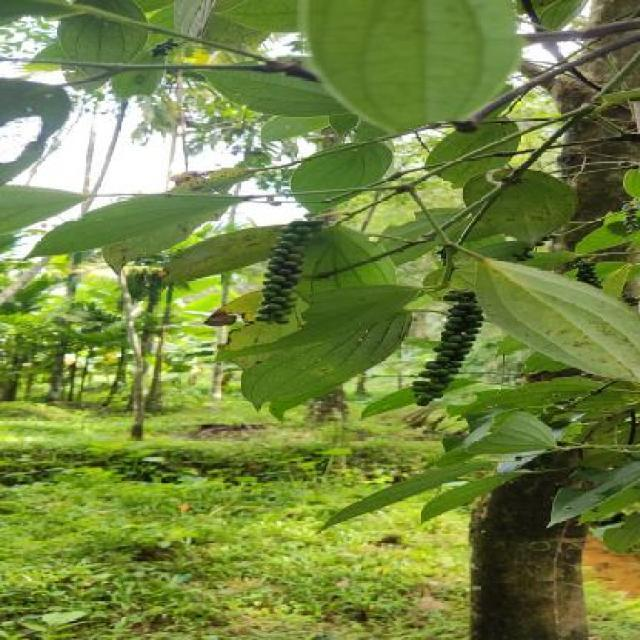UNRIPE: (410, 289, 481, 406), (256, 219, 322, 324), (566, 261, 599, 287), (614, 200, 638, 231), (149, 38, 176, 54)
